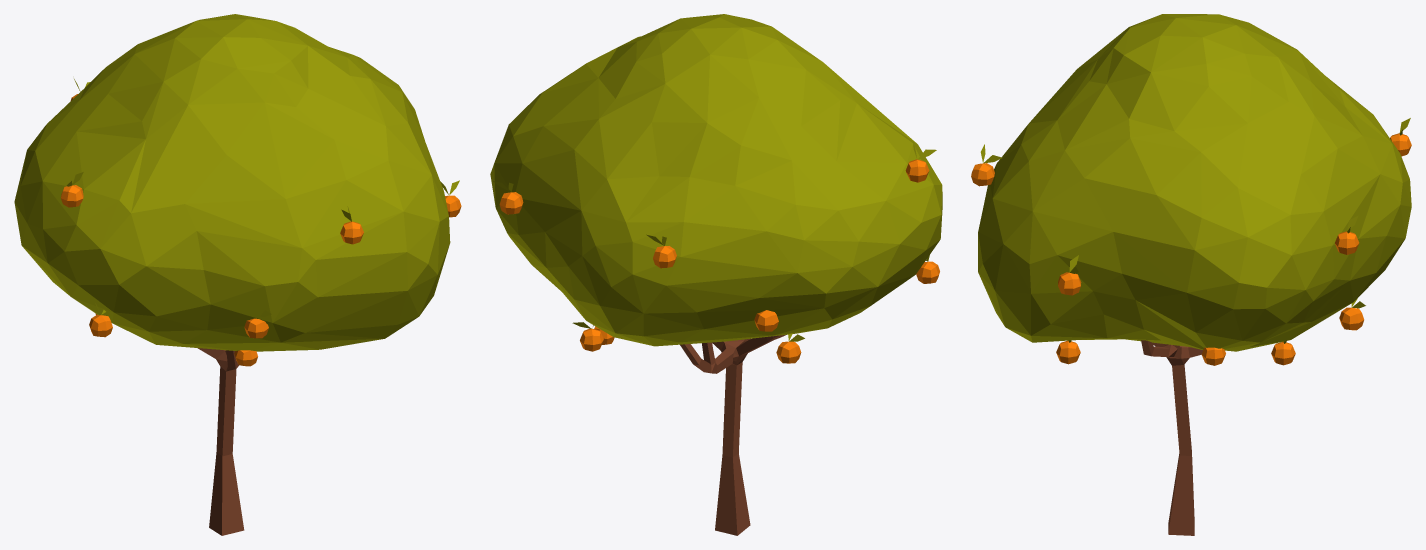
Rendered from tree_5.glb.
3 views of the same model, side by side, from view 1: azimuth 30°, elevation 25°; view 2: azimuth 150°, elevation 25°; view 3: azimuth 270°, elevation 25° (orthographic). The views are drawn at different scales.
Parts seen in each view (by area): view 1: tree 5_leaf 1_0; view 2: tree 5_leaf 1_0; view 3: tree 5_leaf 1_0.
Boxes of the visible parts, left/top/right/bottom form: tree 5_leaf 1_0: left=14, top=14, right=461, bottom=535; tree 5_leaf 1_0: left=490, top=14, right=942, bottom=535; tree 5_leaf 1_0: left=971, top=14, right=1411, bottom=535.
Bounding box in the file's own units: 8.68 × 10.57 × 8.29.
